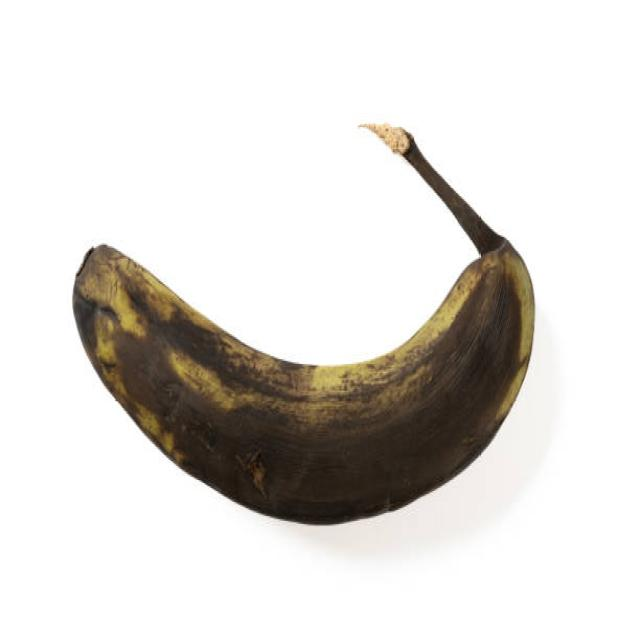Rotten: (73, 121, 536, 524)
